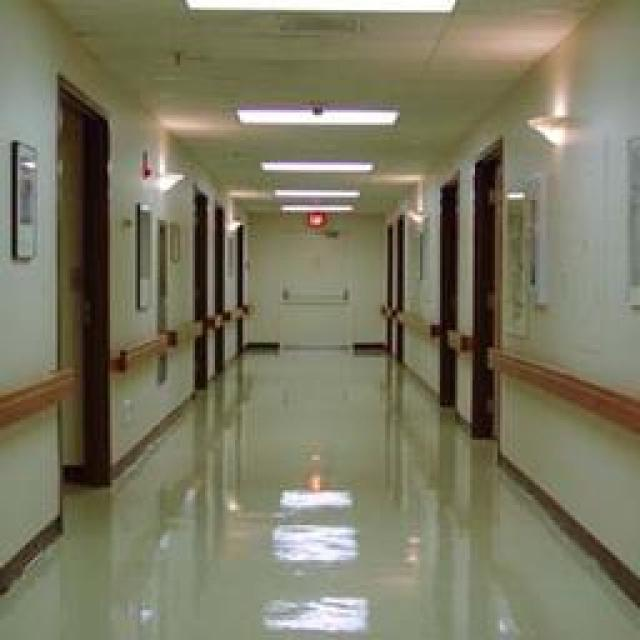ceiling beam: (40, 0, 610, 215)
door bars: (52, 70, 110, 530), (468, 135, 500, 455), (435, 170, 460, 410), (190, 182, 208, 395), (212, 200, 222, 375), (392, 212, 402, 358), (235, 220, 242, 352)
exit sign: (308, 212, 325, 225)
fire alarm: (140, 148, 150, 178)
floor -X: (2, 348, 638, 638)
light fixture: (185, 0, 452, 10), (232, 108, 400, 122), (525, 118, 582, 145), (258, 160, 372, 170), (272, 190, 358, 198), (148, 175, 182, 192), (280, 202, 352, 210)
picture crop: (502, 180, 530, 338), (12, 140, 38, 258), (135, 202, 150, 308), (170, 222, 180, 260)
wall clock: (380, 0, 638, 605), (2, 0, 248, 595), (245, 212, 385, 348)
